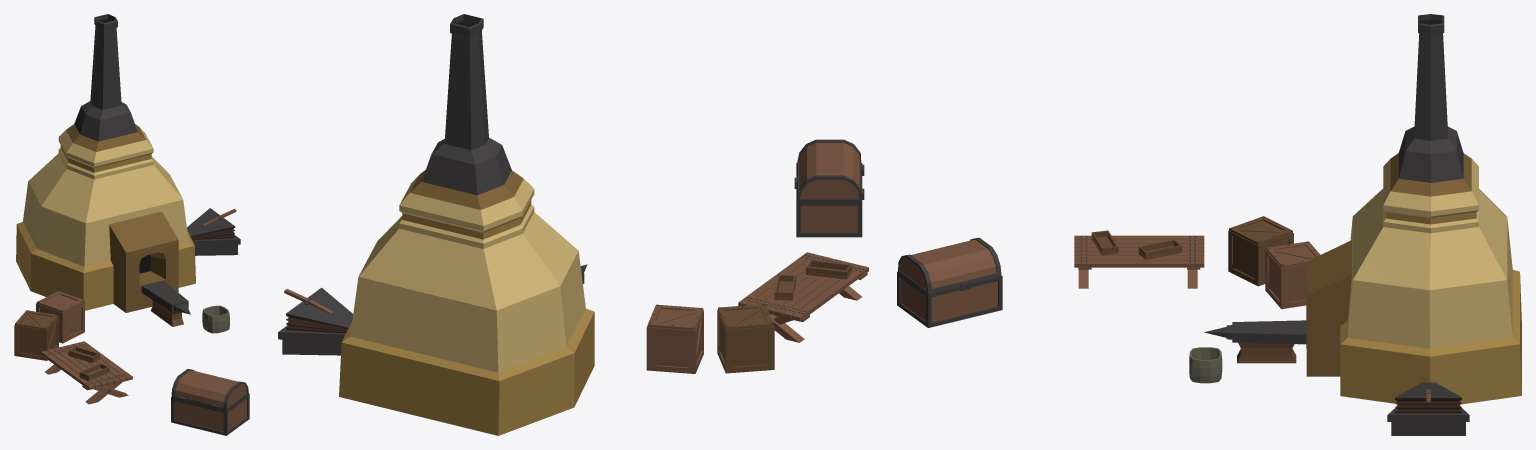
File: Smith-Shop.fbx
3 renders of one model, left to right at view 1: azimuth 30°, elevation 25°; view 2: azimuth 150°, elevation 25°; view 3: azimuth 270°, elevation 25°, orthographic. The views are drawn at different scales.
Visible parts, largest first — view 1: Object014, Cube_19; view 2: Object014, Cube_19; view 3: Object014, Cube_19.
Boxes of the visible parts, x1=… form: Object014: x1=16, y1=14, x2=240, y2=333; Cube_19: x1=14, y1=291, x2=249, y2=435; Object014: x1=278, y1=14, x2=594, y2=435; Cube_19: x1=646, y1=139, x2=868, y2=373; Object014: x1=1189, y1=14, x2=1521, y2=435; Cube_19: x1=897, y1=216, x2=1320, y2=327.
Size of the model in its own units: 5.37 by 4.61 by 7.66.
